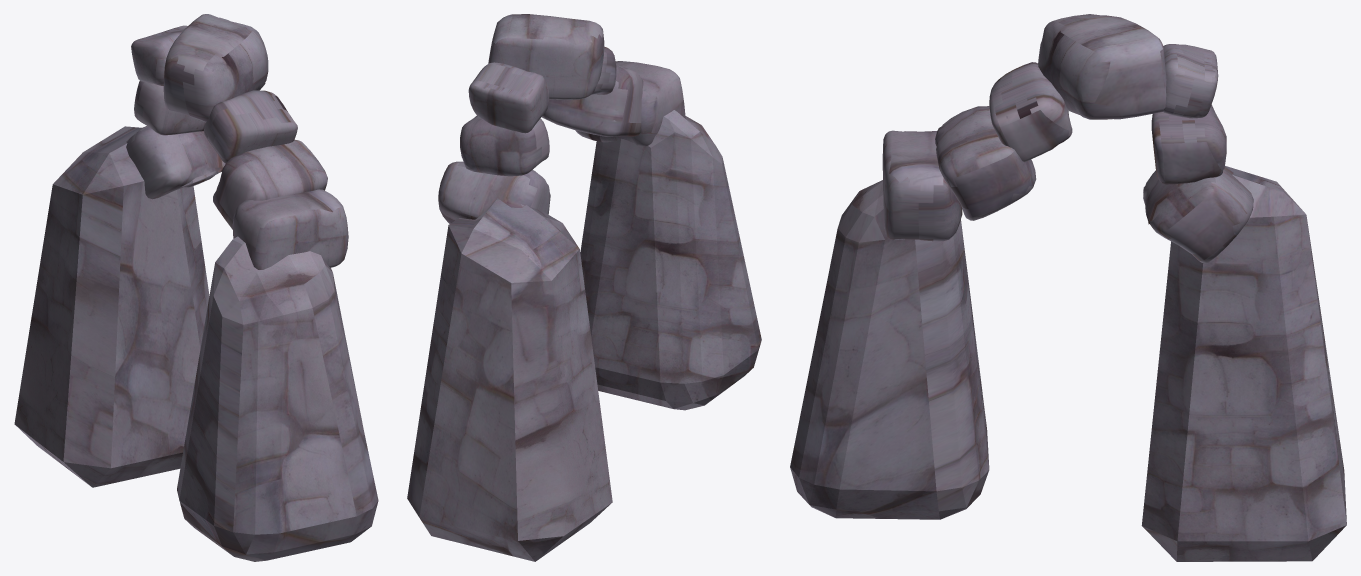
Rendered from gate.fbx.
3 renders of one model, left to right at view 1: azimuth 30°, elevation 25°; view 2: azimuth 150°, elevation 25°; view 3: azimuth 270°, elevation 25°, orthographic. The views are drawn at different scales.
Parts seen in each view (by area): view 1: Plane.002; view 2: Plane.002; view 3: Plane.002.
Part boxes in pixels (x1,y1,x2,y2): Plane.002: [14, 14, 378, 561]; Plane.002: [407, 14, 761, 561]; Plane.002: [790, 14, 1346, 561].
Bounding box in the file's own units: 331 × 890 × 858.
